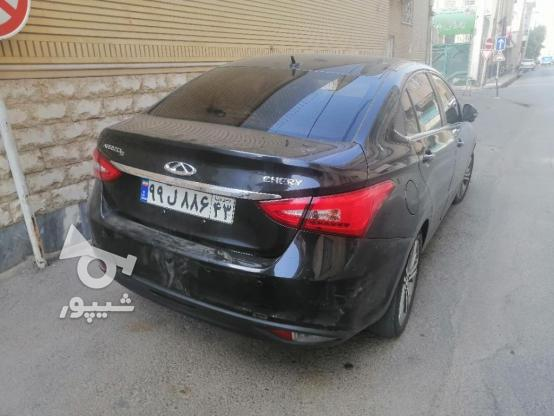car: (139, 176, 237, 224)
